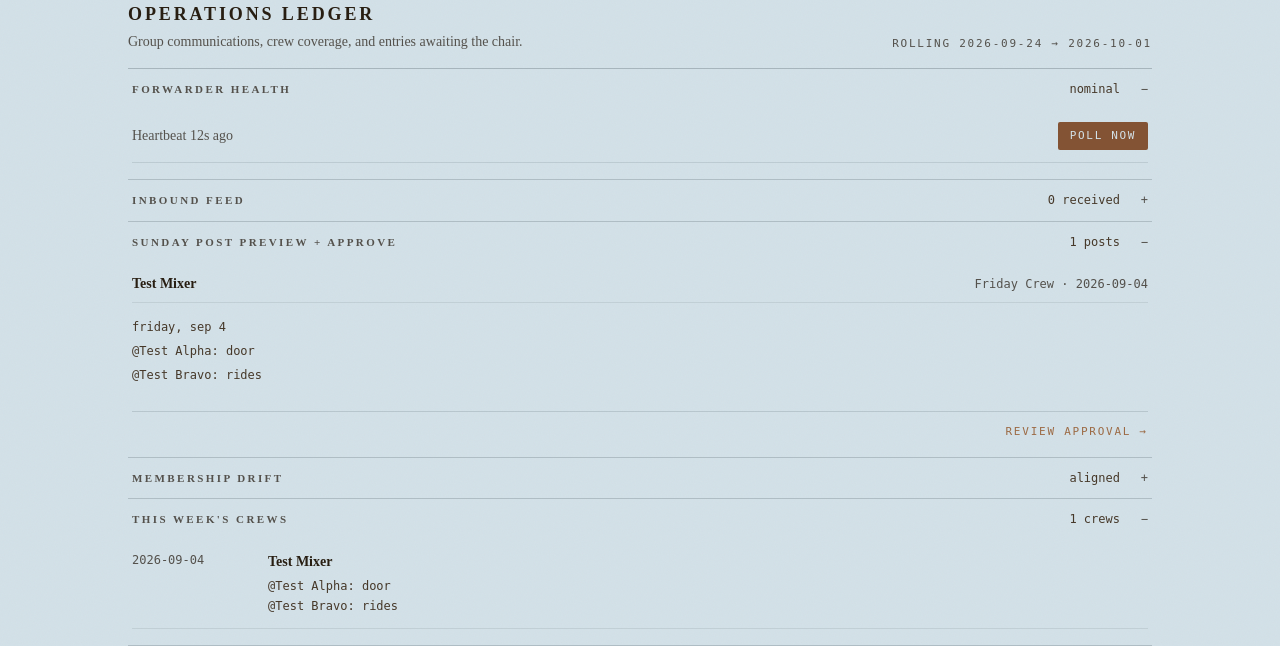
Test case: Ops — approving an announcement › shows the exact text, the destination topic and the person count before sending
Click the button "Review approval →" at (1077, 432), box [1006, 424, 1148, 440]
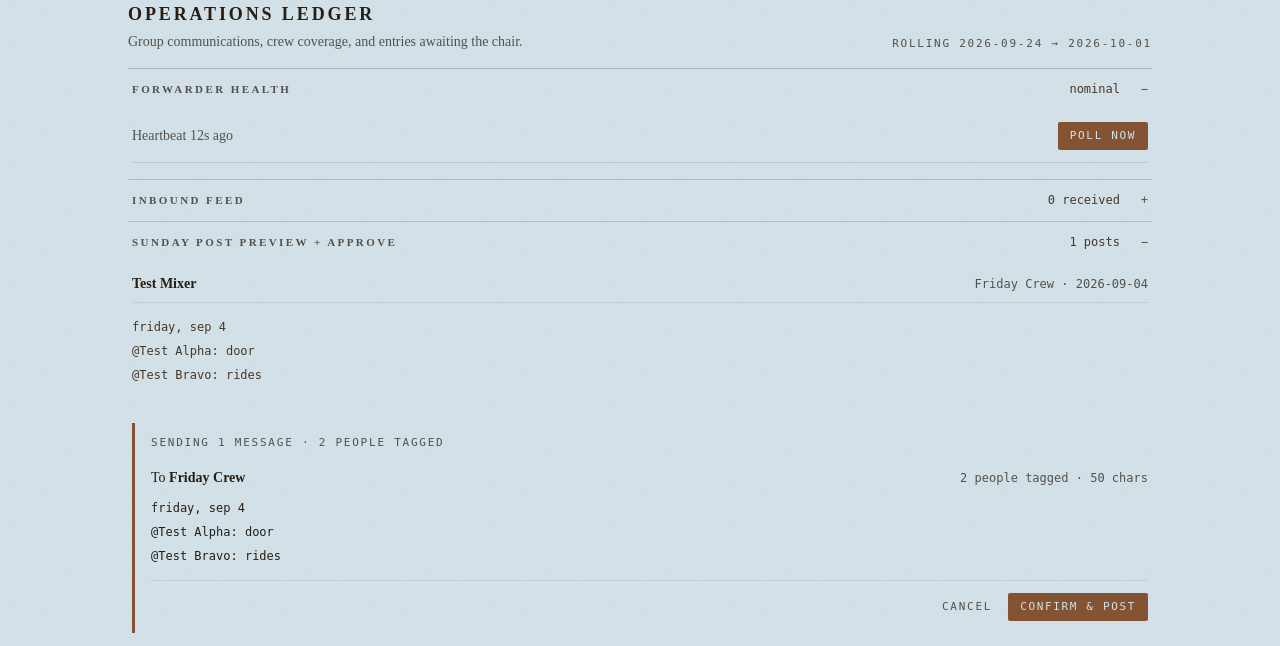
Check: the element that starts with "Sending" shows "Friday Crew", box [169, 470, 245, 484]
Check: the element that starts with "Sending" shows "2 people tagged", box [132, 423, 1148, 633]
Check: the element that starts with "Sending" shows "Sending 1 message", box [132, 423, 1148, 633]
